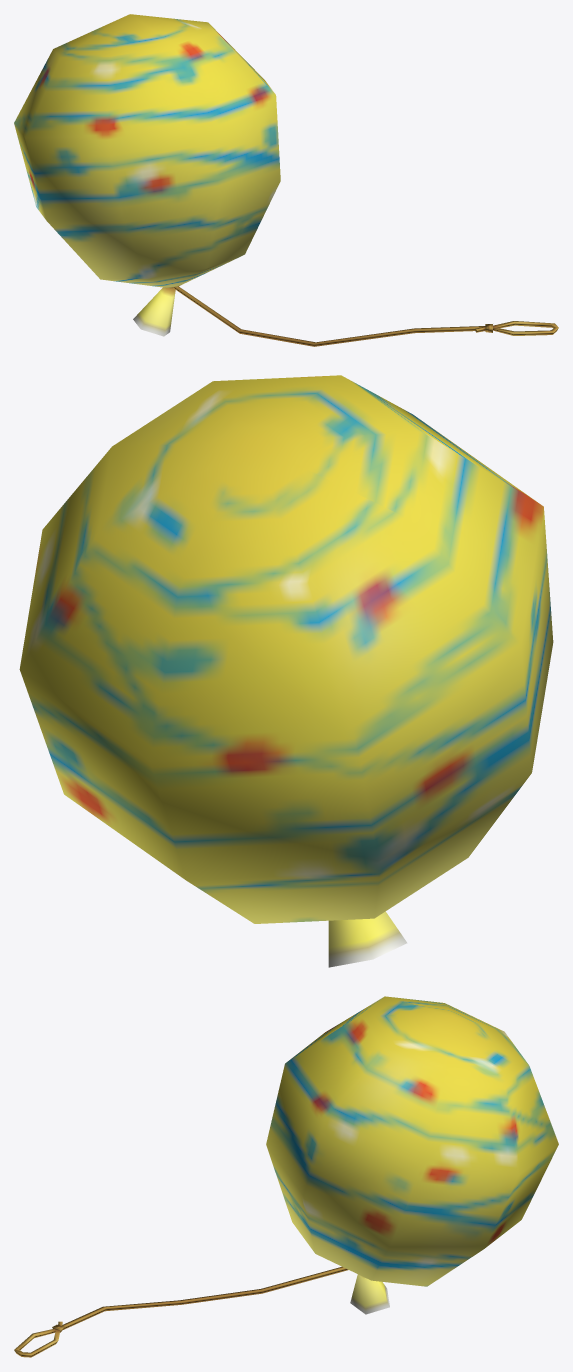
File: jsf_WaterBalloon_06_d.fbx
The picture shows the model from 3 angles, top to bottom: view 1: azimuth 30°, elevation 25°; view 2: azimuth 150°, elevation 25°; view 3: azimuth 270°, elevation 25°; orthographic projection. The views are drawn at different scales.
Parts seen in each view (by area): view 1: jsf_WaterBalloon_06_d; view 2: jsf_WaterBalloon_06_d; view 3: jsf_WaterBalloon_06_d.
Part boxes in pixels (x1,y1,x2,y2): jsf_WaterBalloon_06_d: (14, 14, 558, 346); jsf_WaterBalloon_06_d: (19, 375, 553, 967); jsf_WaterBalloon_06_d: (14, 996, 558, 1357).
Bounding box in the file's own units: 15.63 × 12.55 × 20.67.
